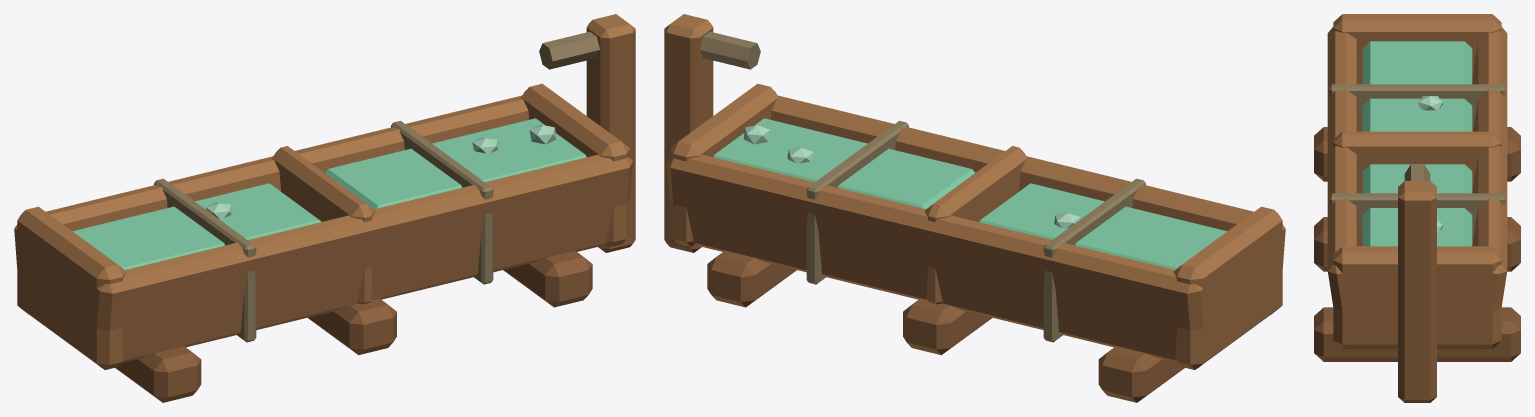
The model's file is ranch_water_trough.fbx.
The picture shows the model from 3 angles, left to right: view 1: azimuth 30°, elevation 25°; view 2: azimuth 150°, elevation 25°; view 3: azimuth 270°, elevation 25°; orthographic projection. The views are drawn at different scales.
Visible parts, largest first — view 1: ranch_water_trough; view 2: ranch_water_trough; view 3: ranch_water_trough.
Boxes of the visible parts, x1=… form: ranch_water_trough: x1=14, y1=14, x2=635, y2=402; ranch_water_trough: x1=664, y1=14, x2=1285, y2=402; ranch_water_trough: x1=1314, y1=14, x2=1520, y2=402.
Bounding box in the file's own units: 9.65 × 3.6 × 3.2.
